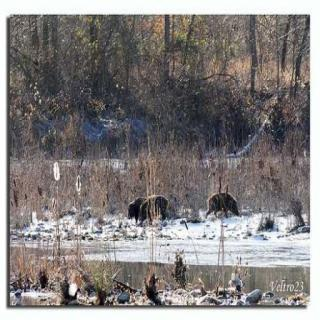Pig: (202, 190, 252, 234), (122, 197, 168, 230), (139, 192, 171, 228)
